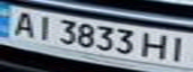3: (93, 24, 118, 53), (115, 26, 139, 56), (54, 17, 78, 46)
8: (75, 20, 96, 50)
A: (6, 9, 39, 38)
H: (139, 30, 172, 61)
I: (163, 34, 193, 63), (30, 12, 57, 42)
